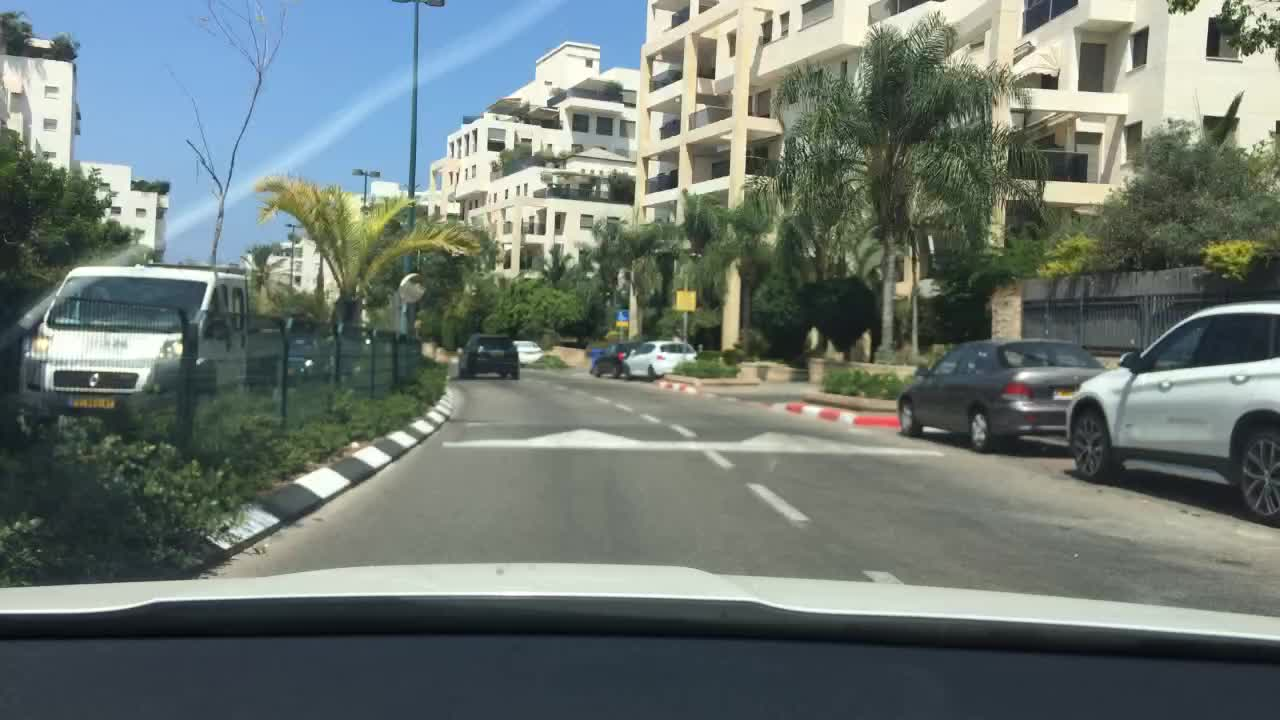car: (1062, 296, 1279, 524), (896, 337, 1108, 454), (324, 324, 385, 378), (625, 338, 700, 379), (455, 333, 517, 379), (374, 324, 414, 370), (284, 344, 330, 381), (584, 341, 630, 376), (507, 337, 542, 363)
traffic sign: (397, 274, 425, 304), (676, 290, 696, 310), (616, 309, 628, 326)
truck: (17, 266, 287, 438)
